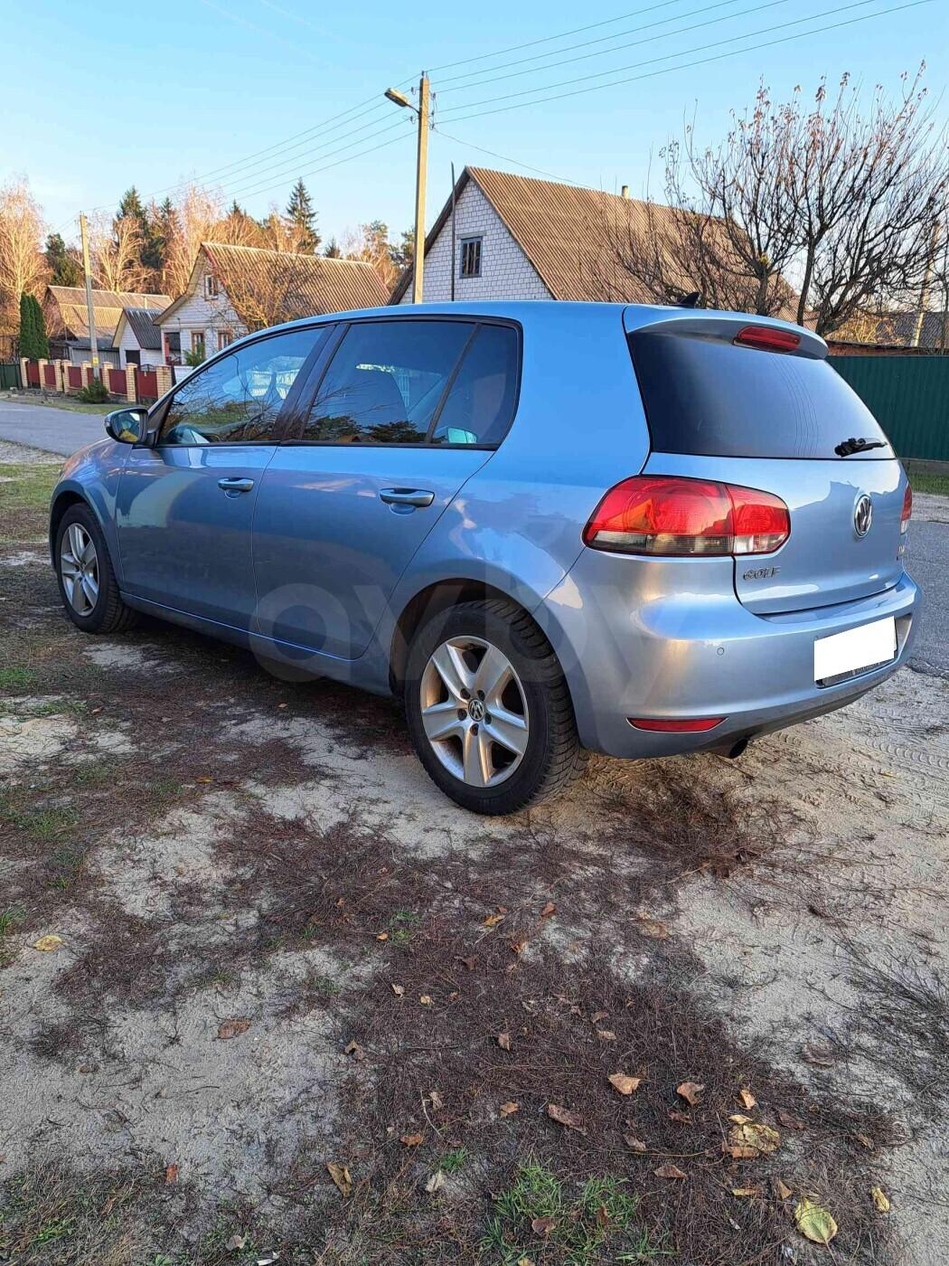Golf_2008-2013: (43, 285, 926, 825)
